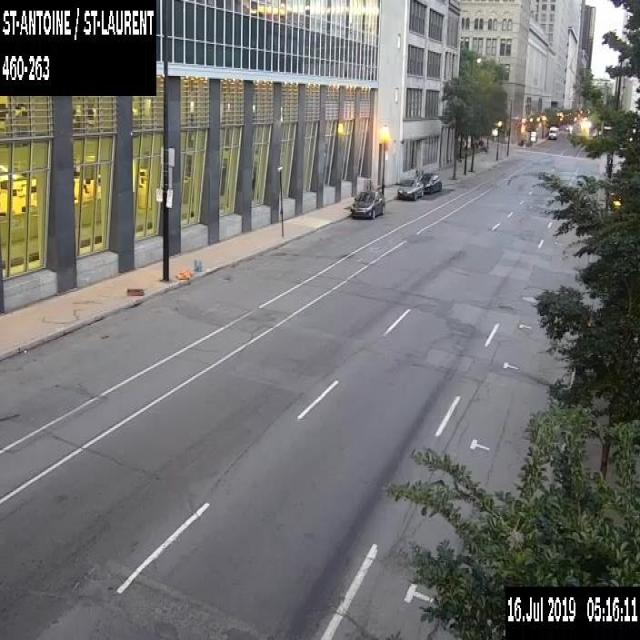construction: (174, 266, 192, 278)
pedestrian: (415, 168, 418, 176), (420, 169, 423, 175)
vehicle: (350, 188, 384, 218), (396, 177, 423, 200), (420, 172, 441, 193), (548, 125, 558, 139)
